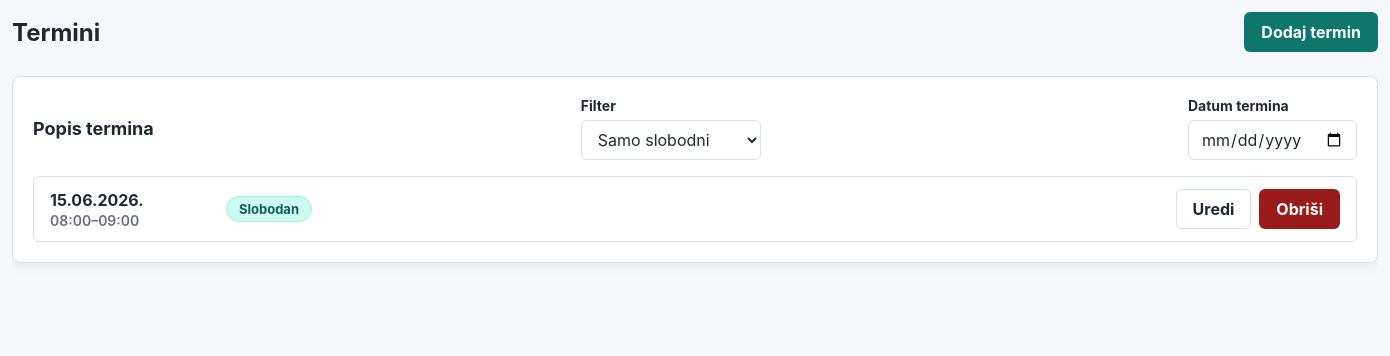
Scenario: AdminAppointmentsPage › renders appointments with status badges
The image size is (1390, 356).
Select "Svi termini" in the dropdown labelled "Filter". click: (671, 140)
box: [581,120,761,160]
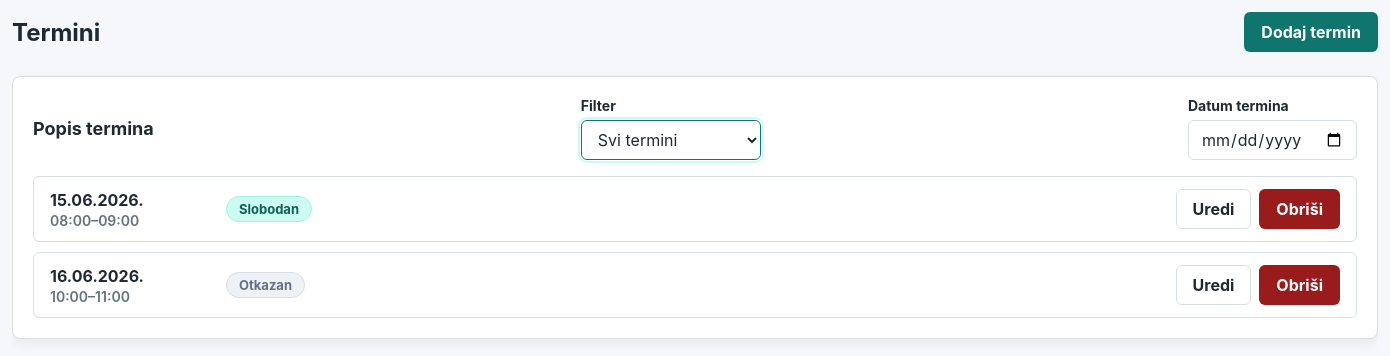
Expected: the text "Slobodan" is shown, [226,196,312,222]
Now the text "Otkazan" is shown, box [226,272,305,298]
Now the text "16.06.2026." is shown, box [50,266,144,286]
